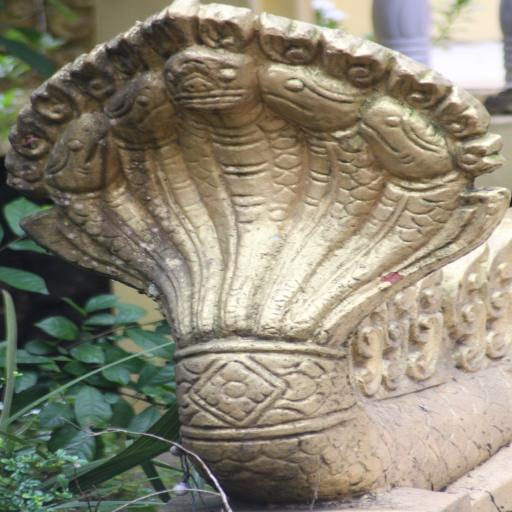ran: (4, 0, 506, 345)
